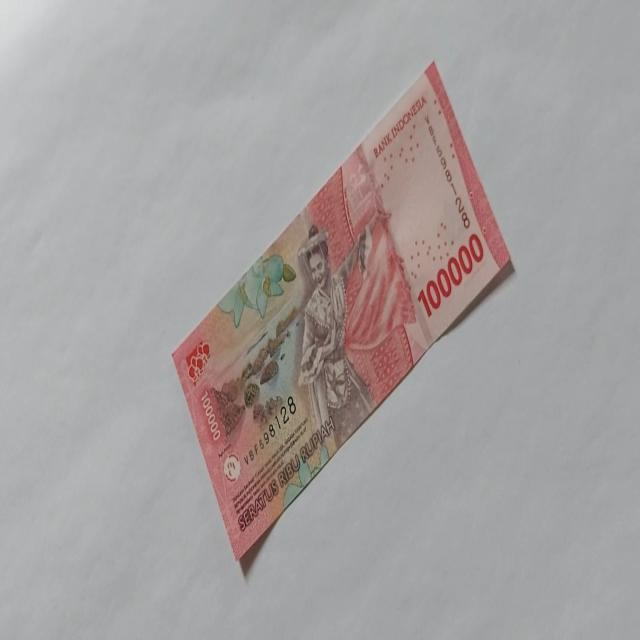seratus ribu rupiah: (171, 59, 514, 562), (296, 220, 374, 447)
